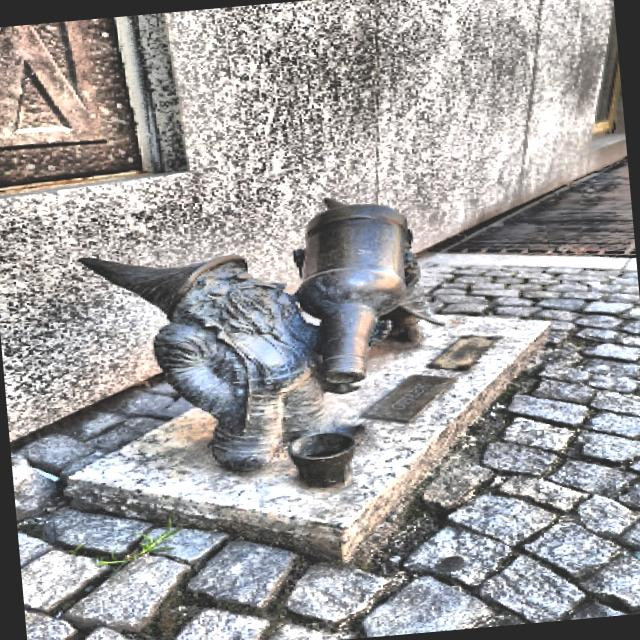Ogorzalek_i_Opilek: (80, 200, 426, 470)
